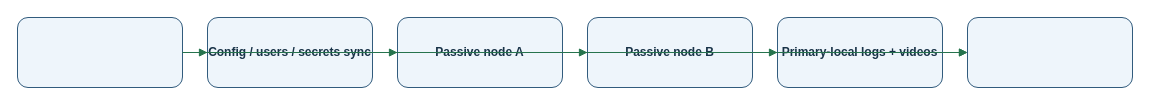
The diagram is 1150 pixels wide and 105 high, and some of its shapes have lost their labels. The centre of each missing label's shape, as x and y in pixels:
"Active primary" goes at pixel 99 52.
"Failover -> maintenance mode" goes at pixel 1049 52.
